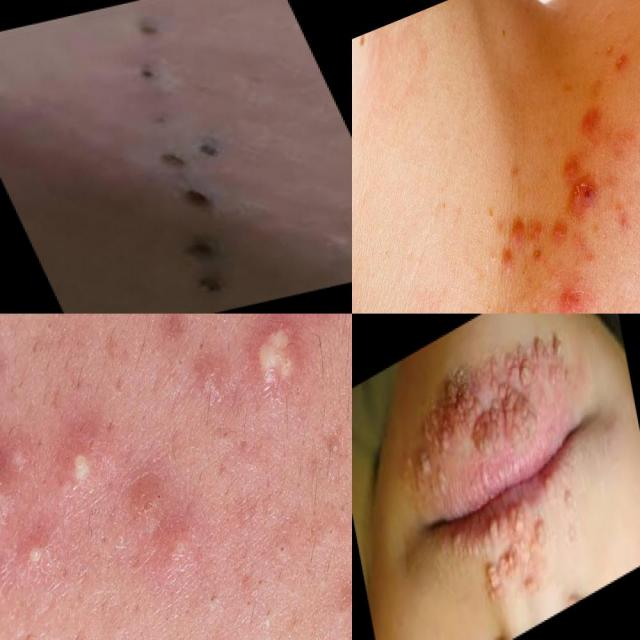8: (502, 192, 570, 266), (545, 268, 591, 314)
9: (38, 417, 123, 507), (5, 517, 63, 597)
blackheads: (235, 314, 321, 426), (252, 499, 308, 578), (152, 330, 206, 396), (194, 560, 237, 622), (56, 614, 156, 640), (0, 450, 26, 545), (563, 167, 602, 220)
dark spot: (164, 228, 253, 306), (144, 127, 244, 179), (162, 177, 233, 221), (460, 279, 510, 314), (128, 10, 174, 45), (128, 60, 172, 87)
